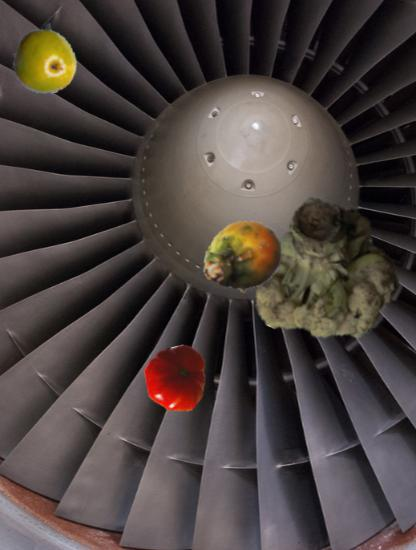Cactus: (205, 217, 282, 294)
Cauliflower: (259, 203, 404, 348)
Maracuja: (10, 26, 79, 95)
Tomato: (144, 347, 211, 414)
